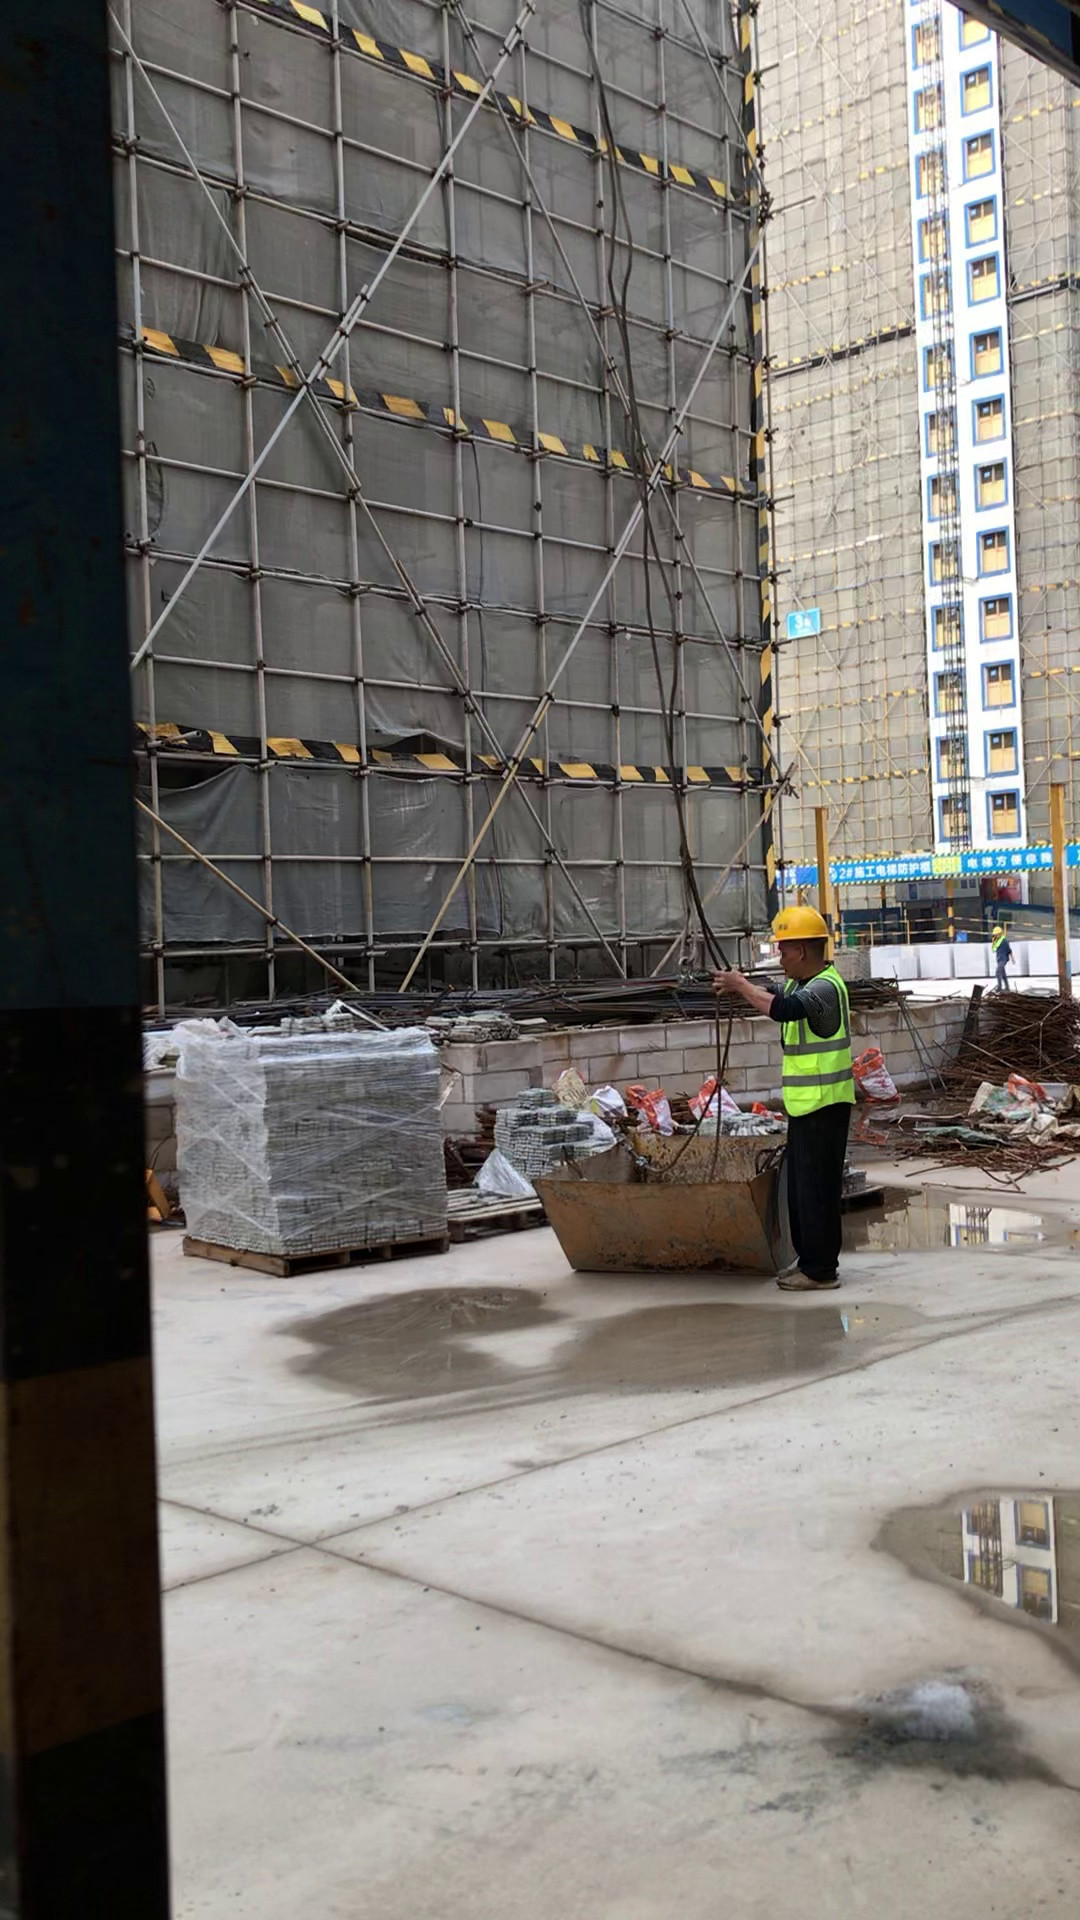helmet: (766, 904, 837, 942)
hopper: (528, 1128, 839, 1288)
person: (704, 900, 908, 1296)
vest: (773, 974, 855, 1116)
